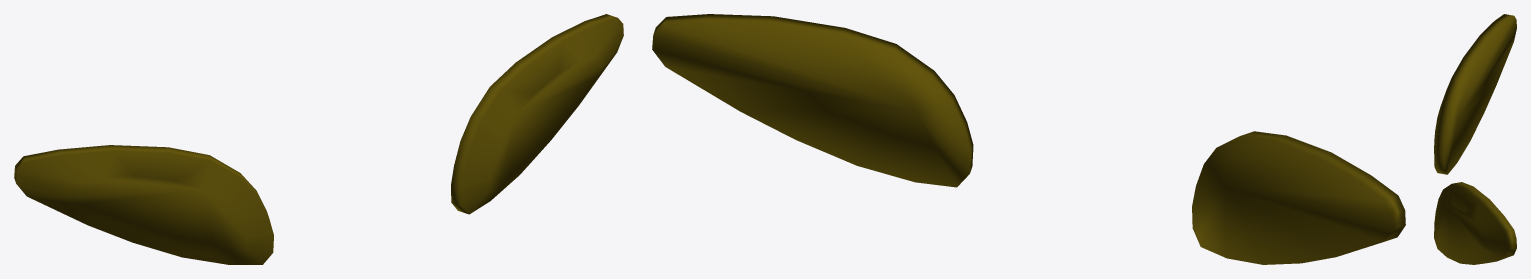
The model's file is Round_Eyebrows.fbx.
The picture shows the model from 3 angles, left to right: view 1: azimuth 30°, elevation 25°; view 2: azimuth 150°, elevation 25°; view 3: azimuth 270°, elevation 25°; orthographic projection. The views are drawn at different scales.
Parts seen in each view (by area): view 1: Round_EyeBrow_R, Round_EyeBrow_L; view 2: Round_EyeBrow_L, Round_EyeBrow_R; view 3: Round_EyeBrow_R, Round_EyeBrow_L.
Part boxes in pixels (x1,y1,x2,y2): Round_EyeBrow_R: (14,145,273,264); Round_EyeBrow_L: (451,14,623,214); Round_EyeBrow_L: (652,14,973,187); Round_EyeBrow_R: (1192,131,1405,264); Round_EyeBrow_R: (1434,14,1516,174); Round_EyeBrow_L: (1434,182,1516,264).
Bounding box in the file's own units: 18.64 × 3.61 × 2.93.
